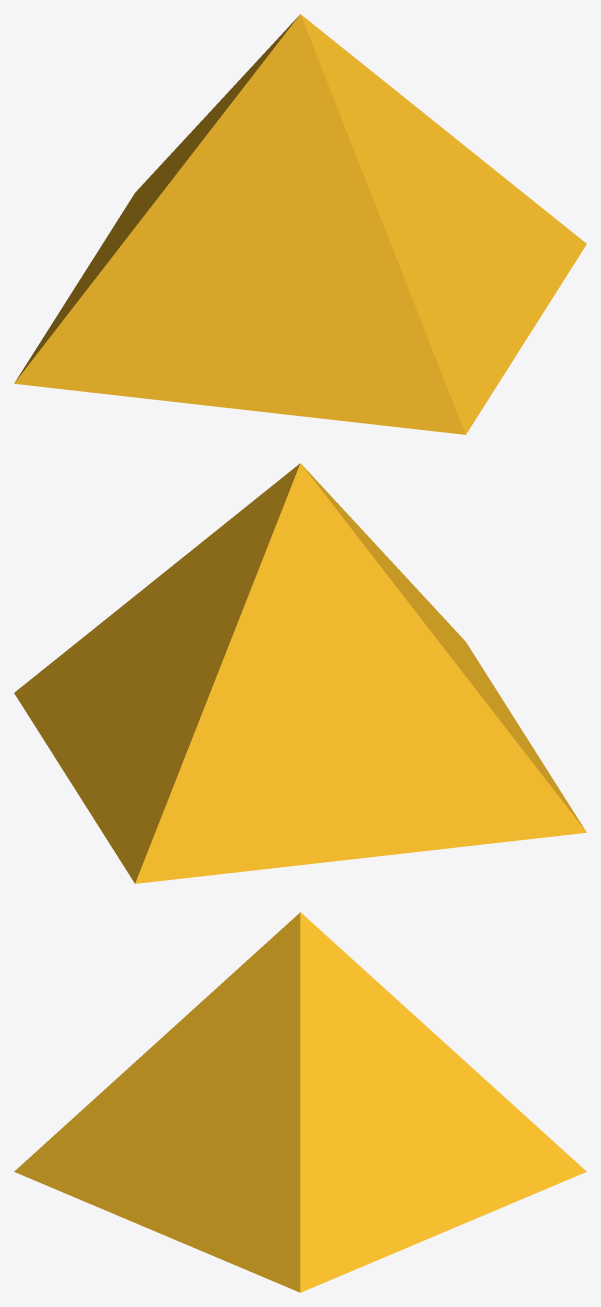
3 renders of one model, top to bottom at view 1: azimuth 30°, elevation 25°; view 2: azimuth 150°, elevation 25°; view 3: azimuth 270°, elevation 25°, orthographic. The views are drawn at different scales.
Parts seen in each view (by area): view 1: Cone; view 2: Cone; view 3: Cone.
Boxes of the visible parts, box(x1,y1,x2,y2) form: Cone: box(14, 14, 586, 434); Cone: box(14, 463, 586, 883); Cone: box(14, 912, 586, 1292).
Size of the model in its own units: 3.66 by 1.83 by 3.66.
